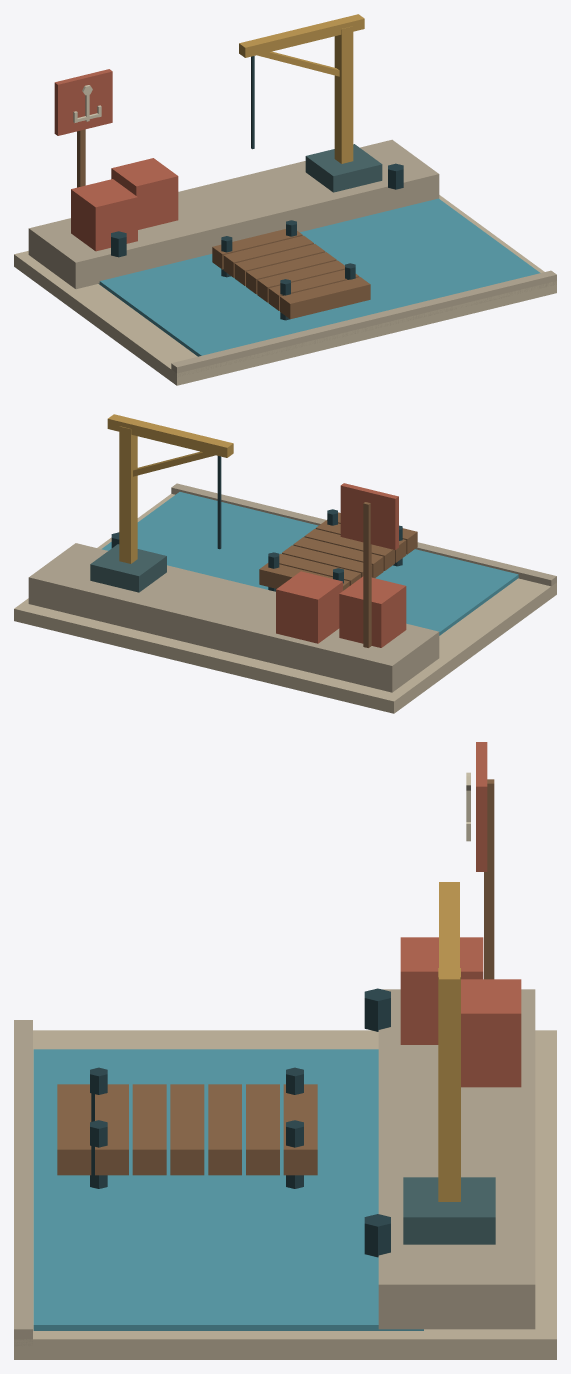
File: harbor-sunrise-complete.glb
3 renders of one model, top to bottom at view 1: azimuth 30°, elevation 25°; view 2: azimuth 150°, elevation 25°; view 3: azimuth 270°, elevation 25°, orthographic. The views are drawn at different scales.
Visible parts, largest first — view 1: harbor; view 2: harbor; view 3: harbor.
Part boxes in pixels (bbox=[...]): harbor: bbox=[14, 14, 556, 385]; harbor: bbox=[14, 414, 556, 713]; harbor: bbox=[14, 742, 556, 1359].
Size of the model in its own units: 3.88 by 1.92 by 2.88.
